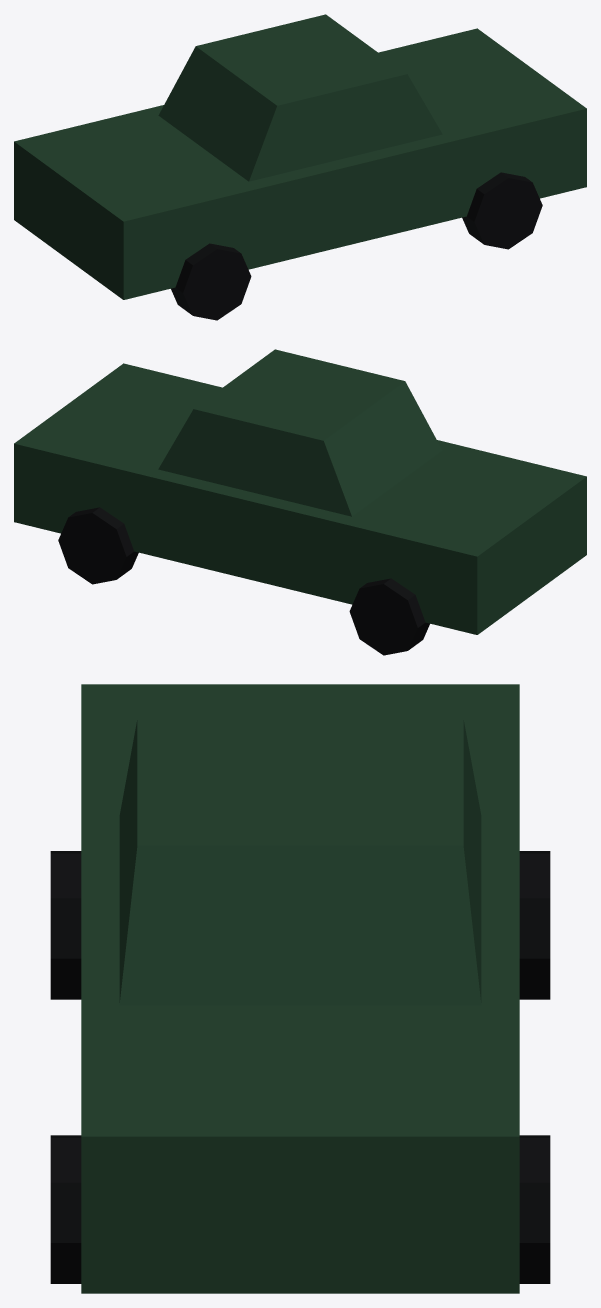
File: proxy_sedan_green.dae
3 renders of one model, top to bottom at view 1: azimuth 30°, elevation 25°; view 2: azimuth 150°, elevation 25°; view 3: azimuth 270°, elevation 25°, orthographic. The views are drawn at different scales.
Parts seen in each view (by area): view 1: proxy_sedan; view 2: proxy_sedan; view 3: proxy_sedan.
Part boxes in pixels (bbox=[...]): proxy_sedan: bbox=[14, 14, 586, 320]; proxy_sedan: bbox=[14, 349, 586, 655]; proxy_sedan: bbox=[50, 684, 550, 1293].
Size of the model in its own units: 4.2 by 1.96 by 1.55.
